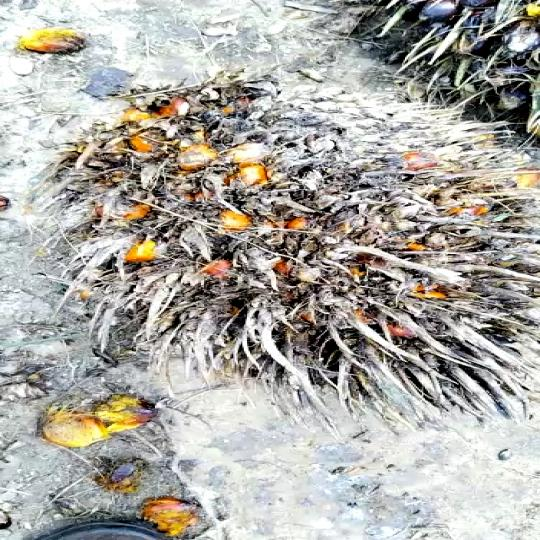terlalu masak: (28, 59, 540, 423)
